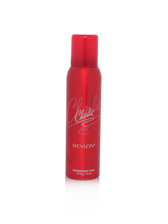other: (59, 32, 110, 185)
